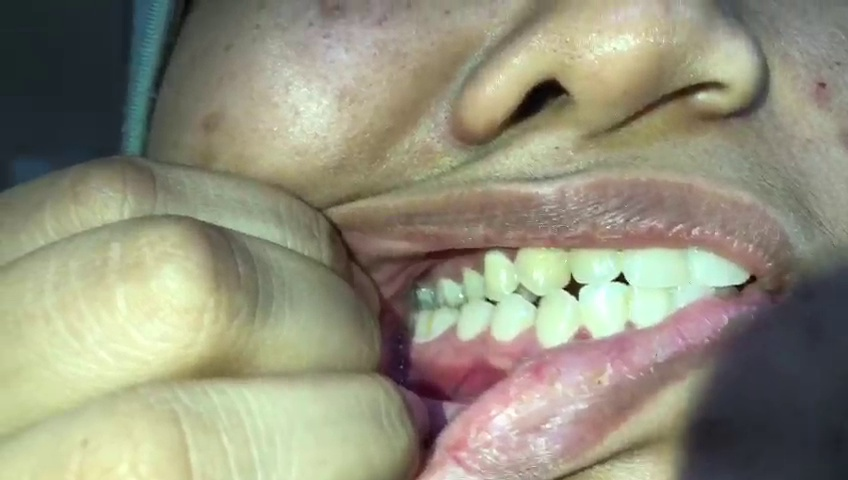1st Molar: (430, 310, 458, 343), (438, 277, 461, 306)
1st Premolar: (490, 292, 536, 345), (483, 252, 517, 304)
2nd Molar: (411, 307, 430, 345), (414, 280, 433, 307)
2nd Premolar: (456, 299, 493, 345), (462, 268, 484, 303)
Canine: (512, 238, 572, 294), (536, 288, 577, 351)
Lateral Incisor: (577, 282, 629, 342)
